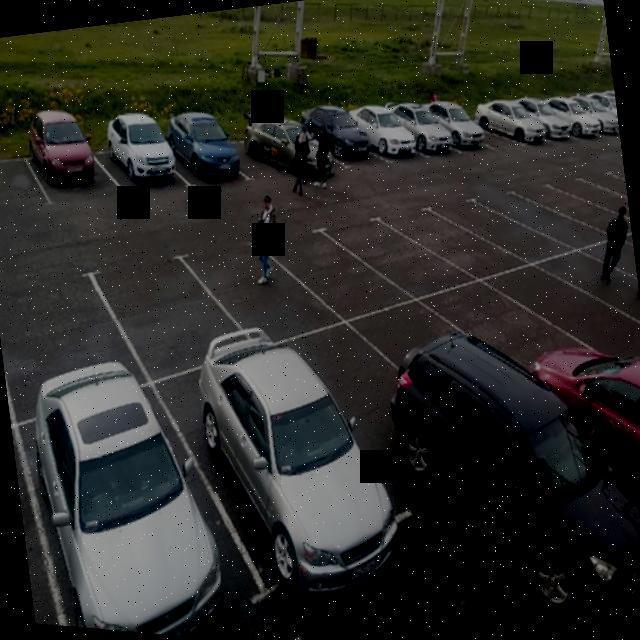space-empty: (76, 229, 255, 392), (0, 258, 162, 427), (165, 206, 336, 362), (389, 171, 575, 303), (358, 181, 522, 314), (248, 202, 400, 342), (494, 238, 640, 376), (313, 196, 465, 326), (458, 167, 608, 289), (544, 226, 640, 356), (512, 167, 634, 261), (548, 167, 632, 243), (445, 94, 524, 163), (0, 146, 52, 240), (591, 212, 640, 305), (588, 169, 630, 225), (603, 165, 629, 213)
space-occupied: (138, 322, 422, 624), (4, 346, 289, 640), (265, 318, 492, 559), (352, 279, 557, 473), (424, 269, 576, 406), (11, 120, 135, 223), (147, 101, 259, 214), (80, 112, 194, 212), (216, 121, 308, 211), (247, 114, 347, 192), (413, 89, 503, 171), (379, 96, 467, 170), (345, 98, 428, 173), (299, 111, 380, 179), (470, 93, 553, 159), (510, 90, 580, 155), (537, 91, 609, 151), (563, 89, 622, 157), (578, 81, 622, 155), (602, 78, 621, 149)
